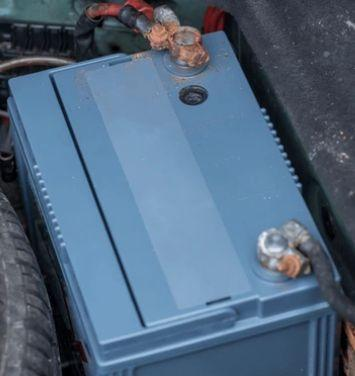battery: (4, 34, 345, 376)
